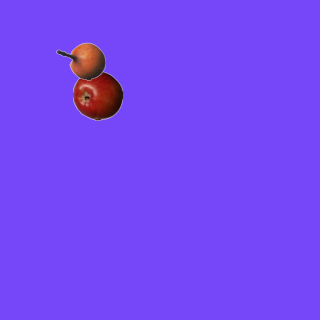Apple Braeburn: (72, 70, 122, 120)
Granadilla: (55, 36, 105, 86)
